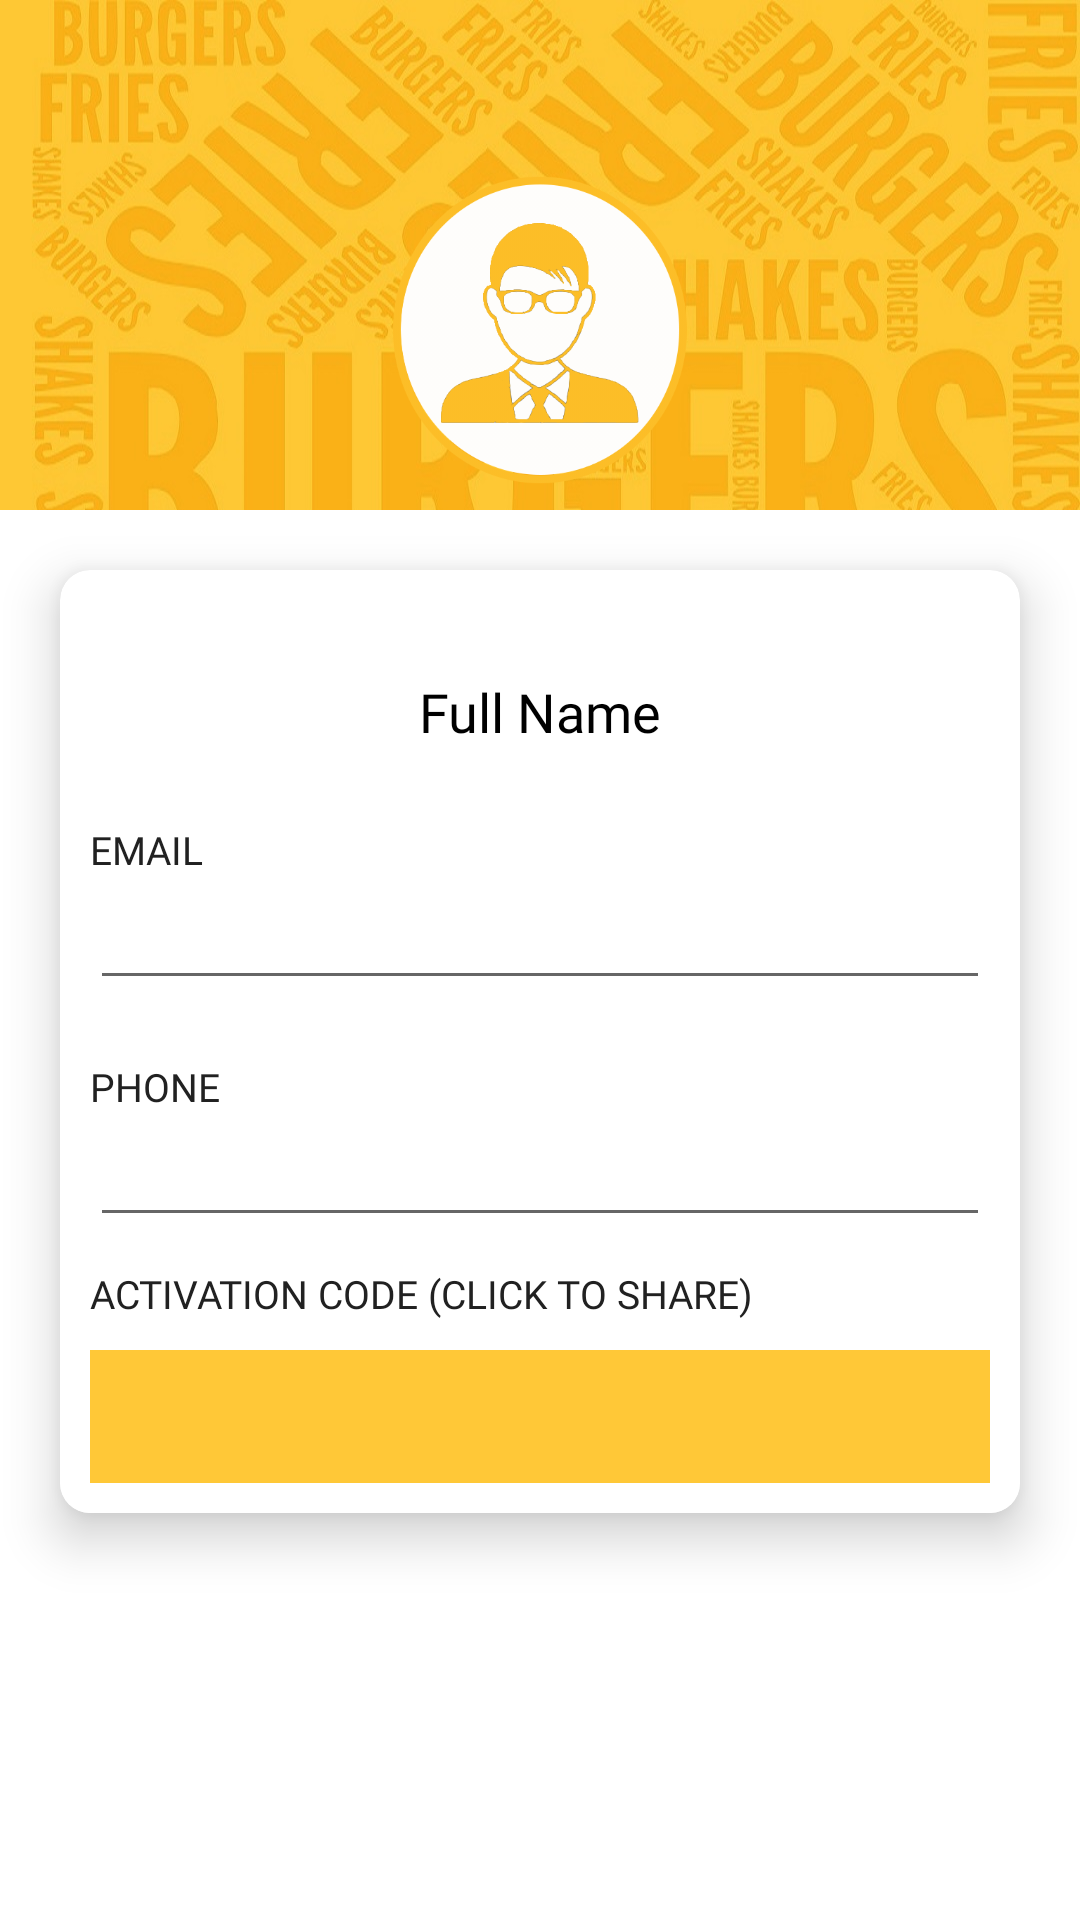

Where to tap for icons on this 1080x1920 app screen, as point (x, y):
male: point (540, 330)
